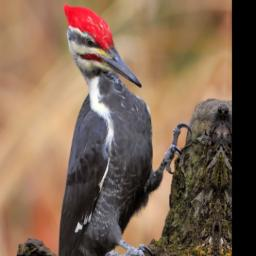Woodpecker: (49, 2, 200, 256)
